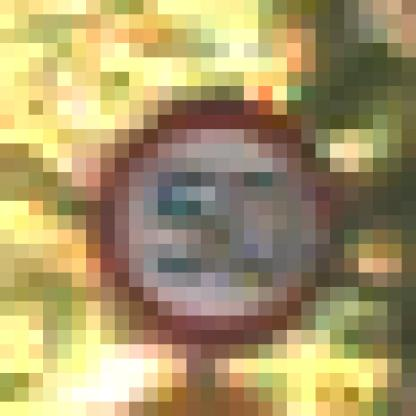Speed Limit 50: (106, 98, 332, 338)
